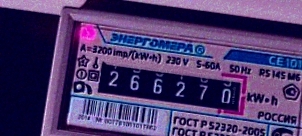0: (219, 86, 233, 105)
2: (105, 68, 121, 88), (173, 79, 187, 98)
6: (150, 76, 165, 96), (128, 72, 142, 92)
7: (196, 82, 210, 101)
screen: (86, 51, 254, 122)
